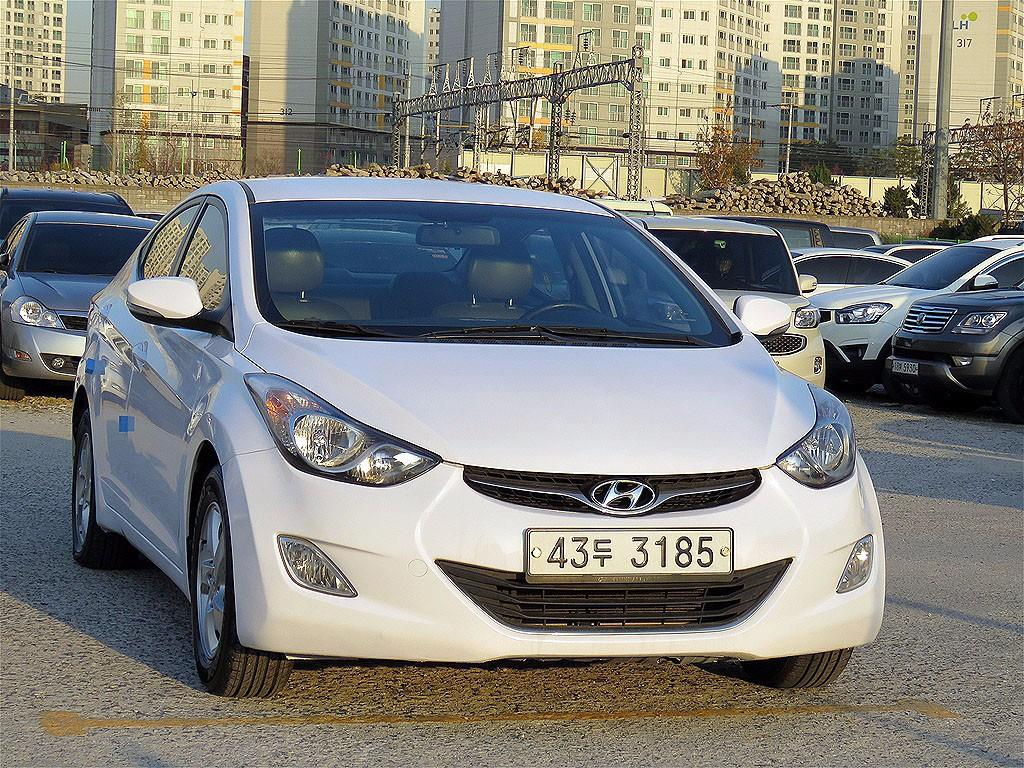plate: (529, 531, 731, 574)
